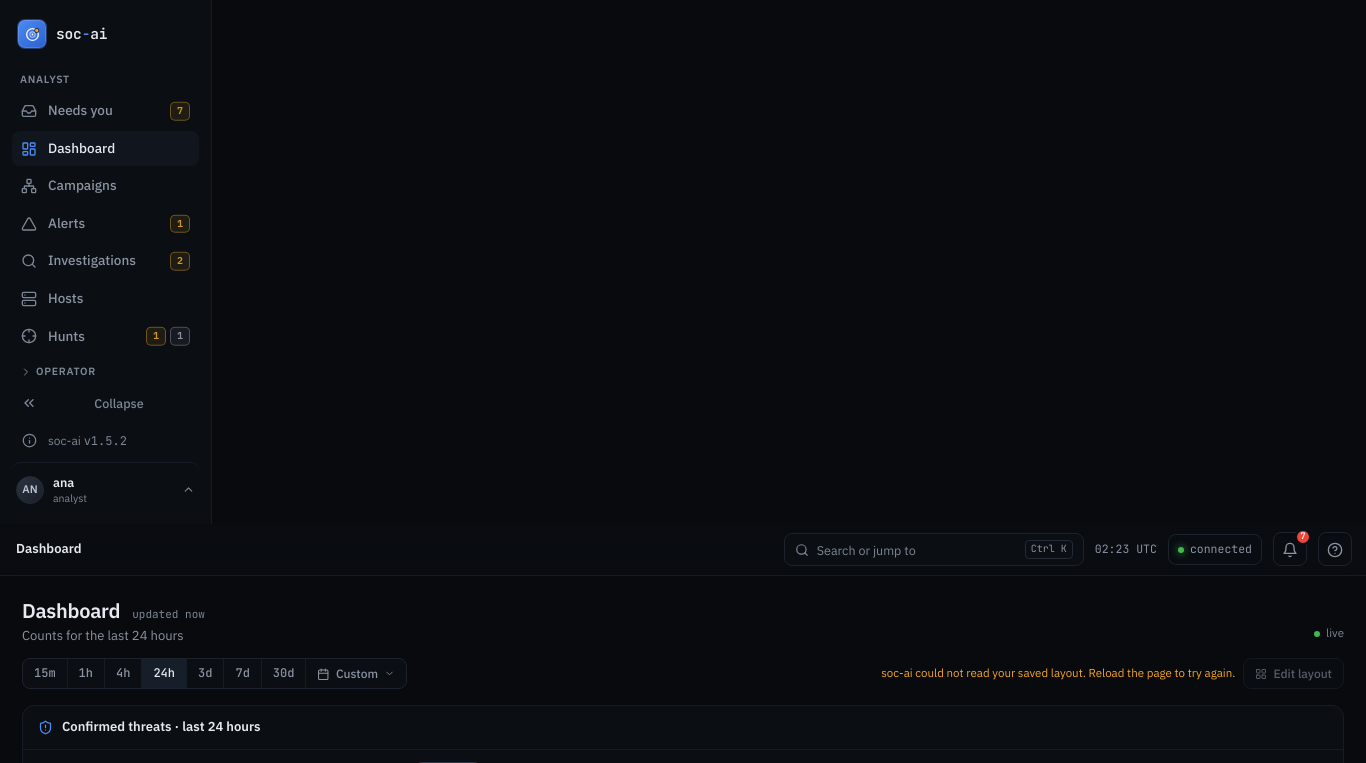
Test: The rule part of the one needs-you count › states the rule line on the tile and in the bell, and the sum on every surface
Expected: the text with test id "notif-badge" reads "7", [1300,530,1306,542]
The bell: the badge and the line.
Click the button named "Notifications" at (1290, 550), box [1273,533,1307,567]
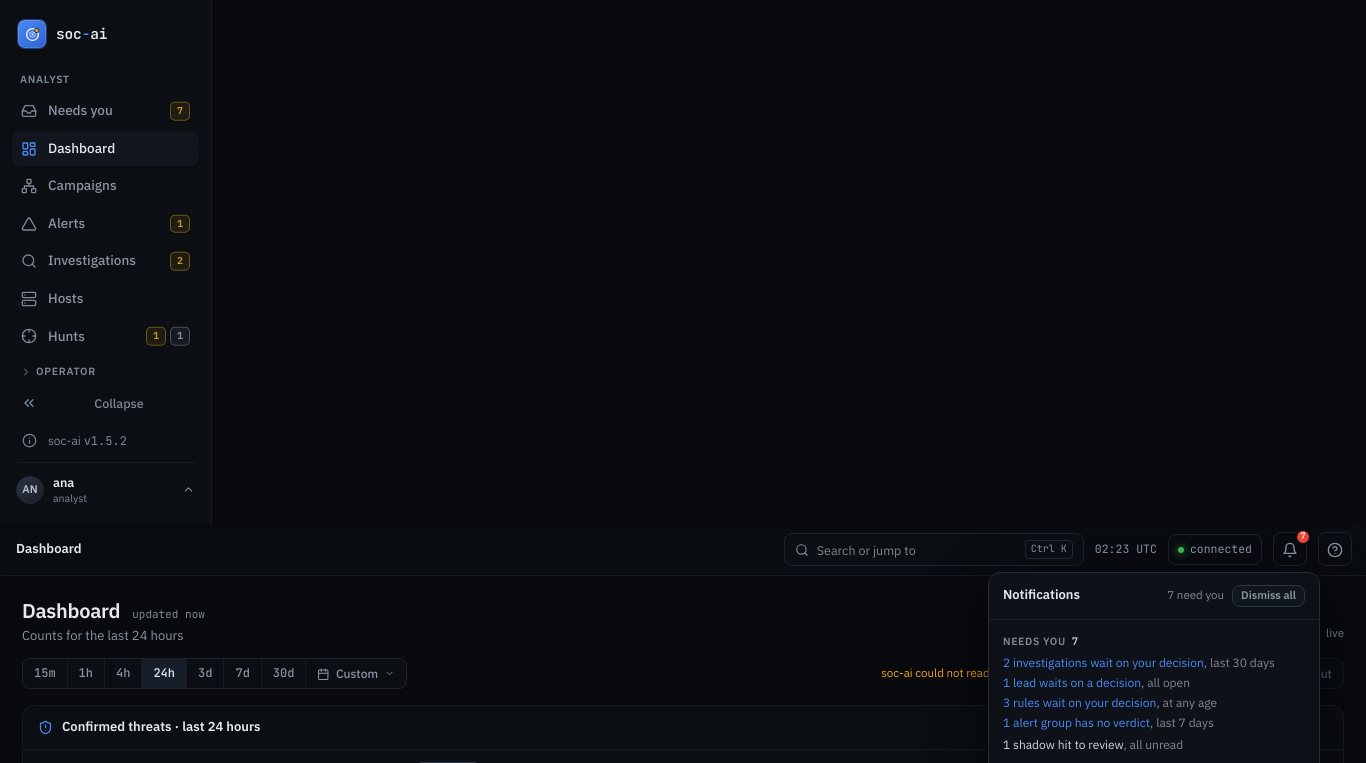
Result: the list item with test id "needs-you-part-rules_waiting" reads "3 rules wait on your decision , at any age" at [1003,696,1217,710]
